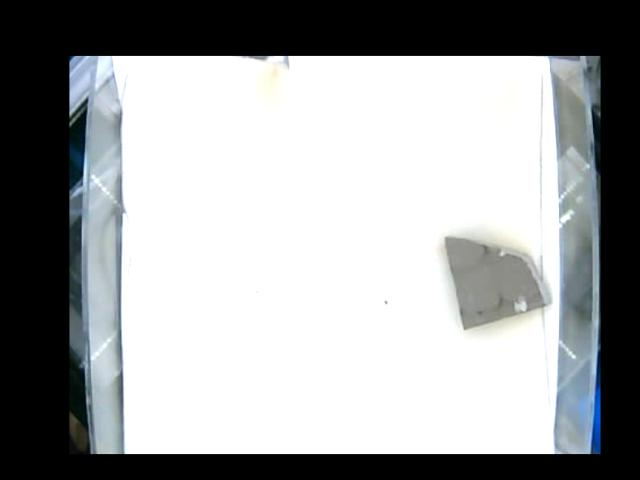China: (447, 228, 549, 329)
